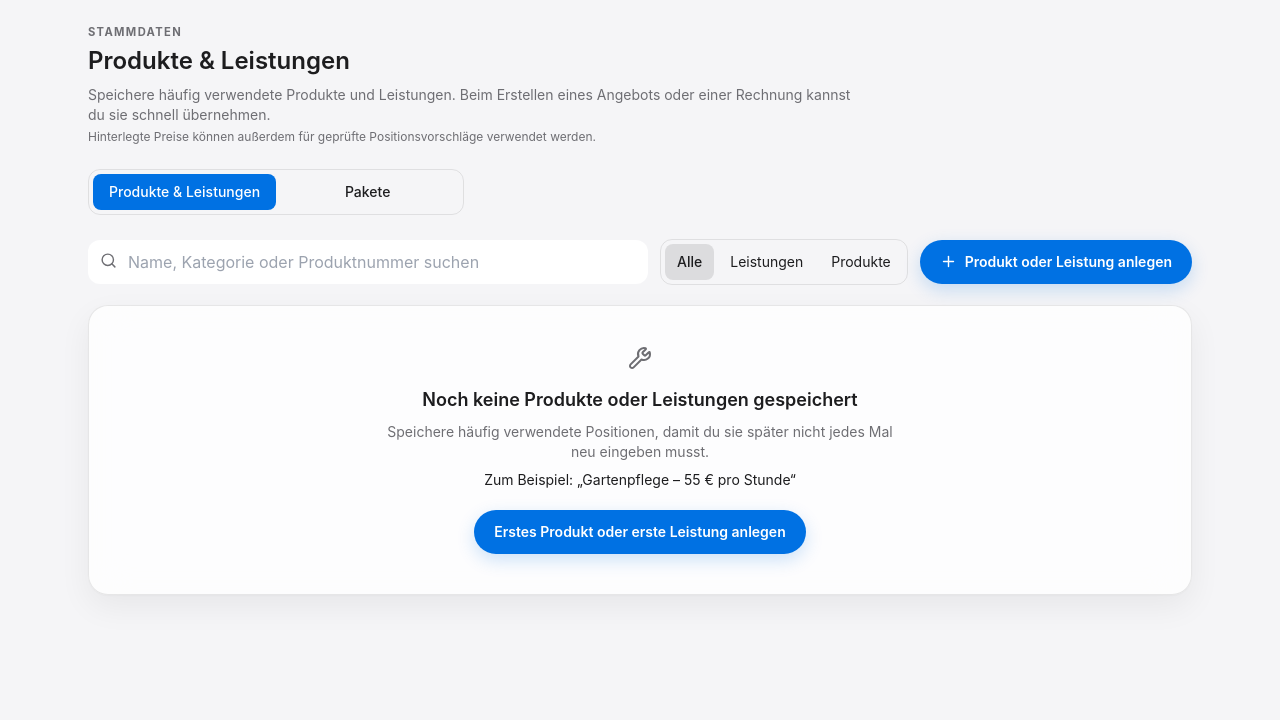
PositionCatalogPage › zeigt den leeren Zustand und öffnet den Dialog für ein neues Produkt oder eine Leistung
expect the heading "Noch keine Produkte oder Leistungen gespeichert" is shown: met, box x1=422 y1=389 x2=858 y2=410
What coordinates should you click on to do the following:
click the button "Erstes Produkt oder erste Leistung anlegen"
I would click on:
 (640, 532)
Its box is x1=474 y1=510 x2=806 y2=554.
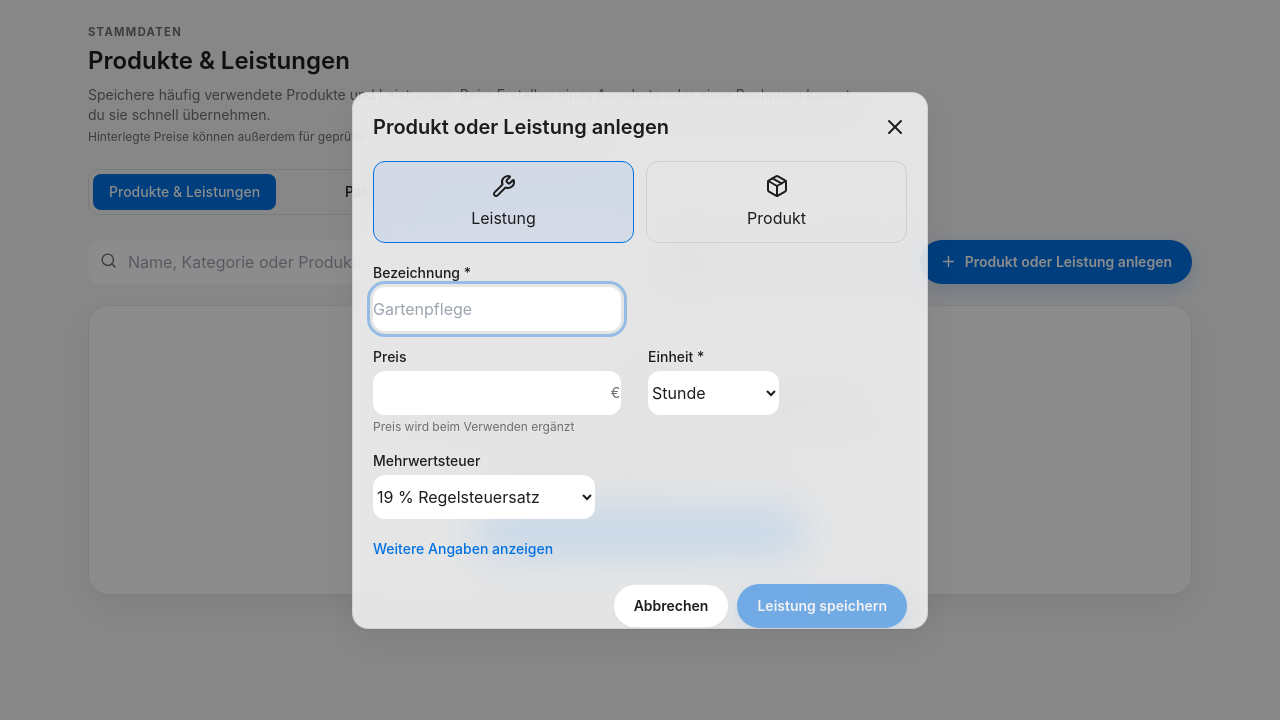
expect the dialog "Produkt oder Leistung anlegen" is shown: met, box x1=352 y1=92 x2=928 y2=628
